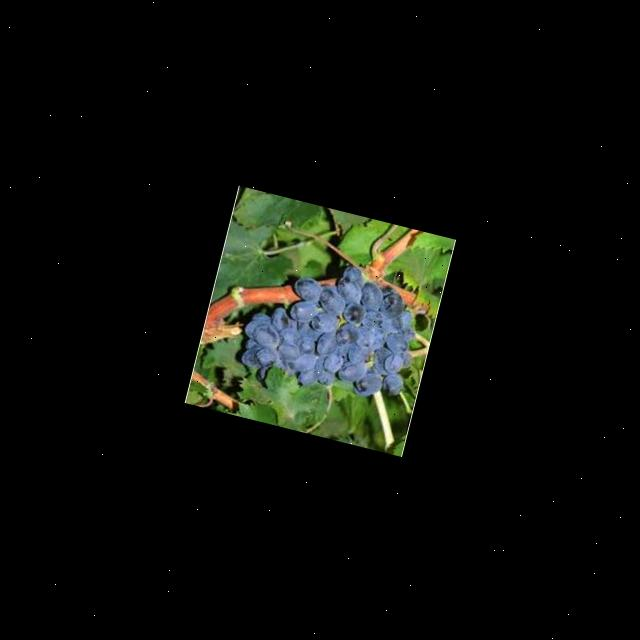grape: (234, 242, 432, 414)
